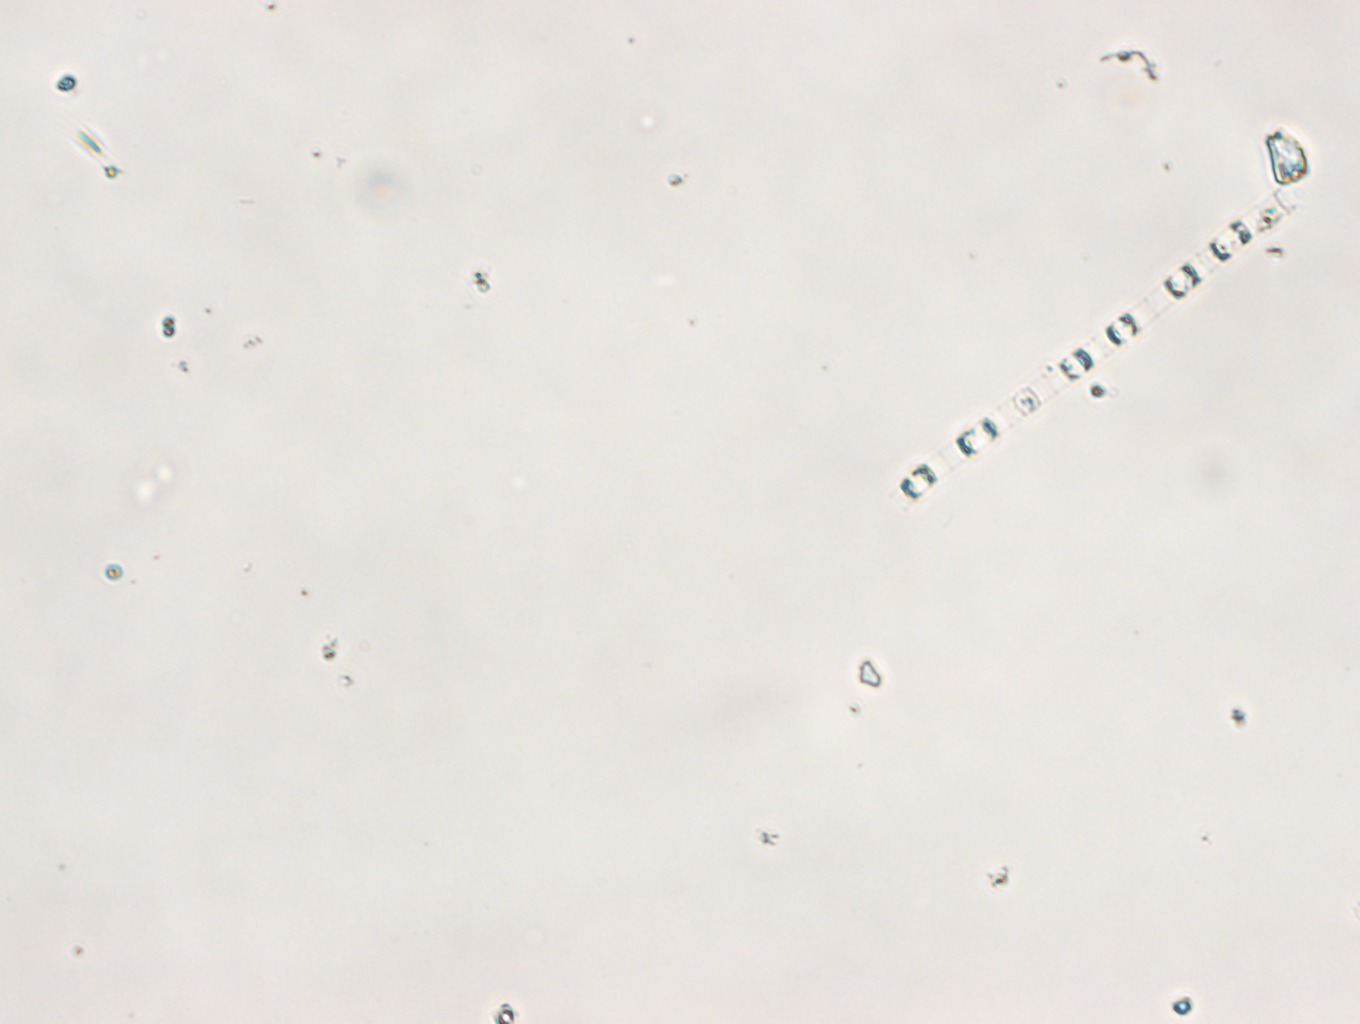skeletonema: (890, 184, 1300, 504)
